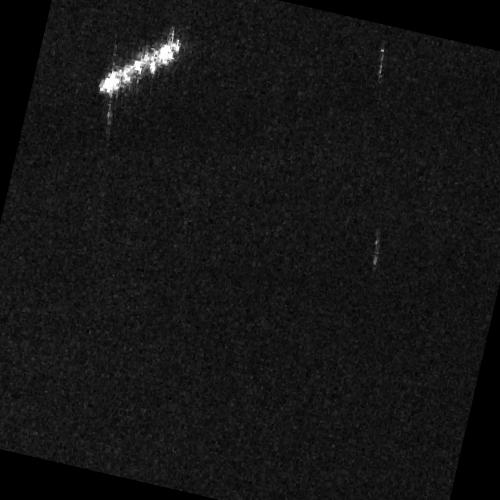ship: (98, 38, 184, 97)
